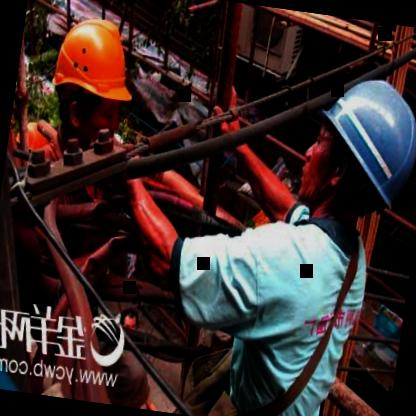helmet: (276, 58, 416, 246), (34, 0, 150, 157)
